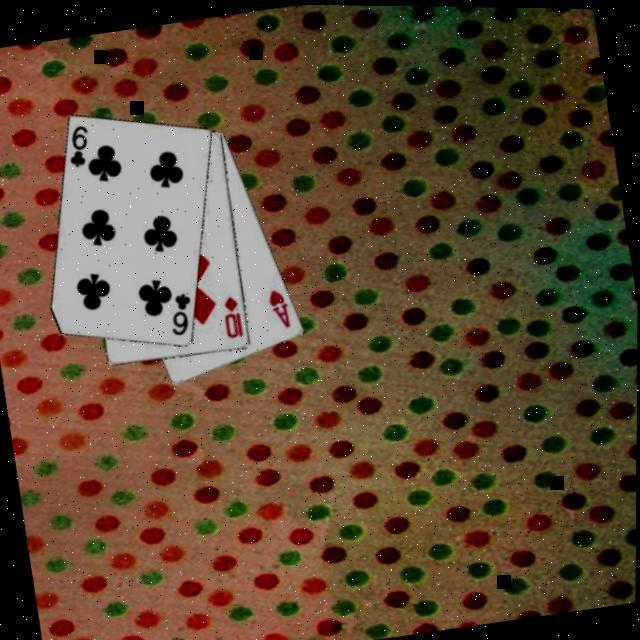10D: (220, 290, 249, 339)
6C: (165, 285, 200, 337), (64, 119, 98, 169)
AH: (266, 282, 296, 329)
